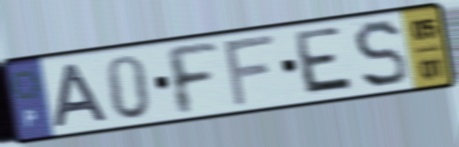0: (103, 53, 154, 121)
A: (52, 61, 112, 131)
E: (293, 24, 358, 98)
F: (160, 40, 222, 119), (221, 31, 278, 111)
S: (351, 18, 411, 92)
